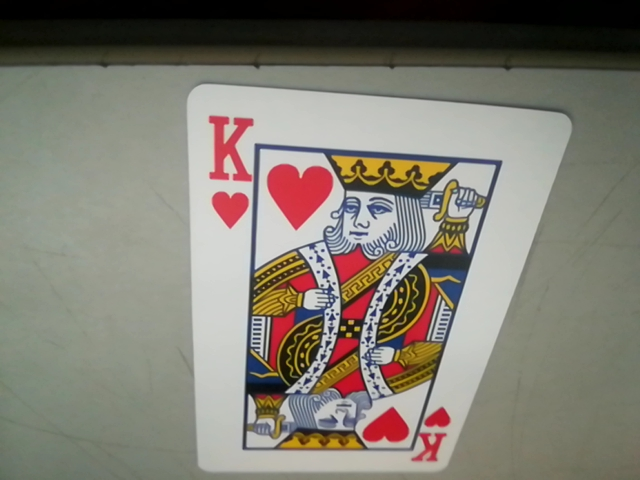hx k: (205, 115, 254, 228), (410, 407, 451, 461)
